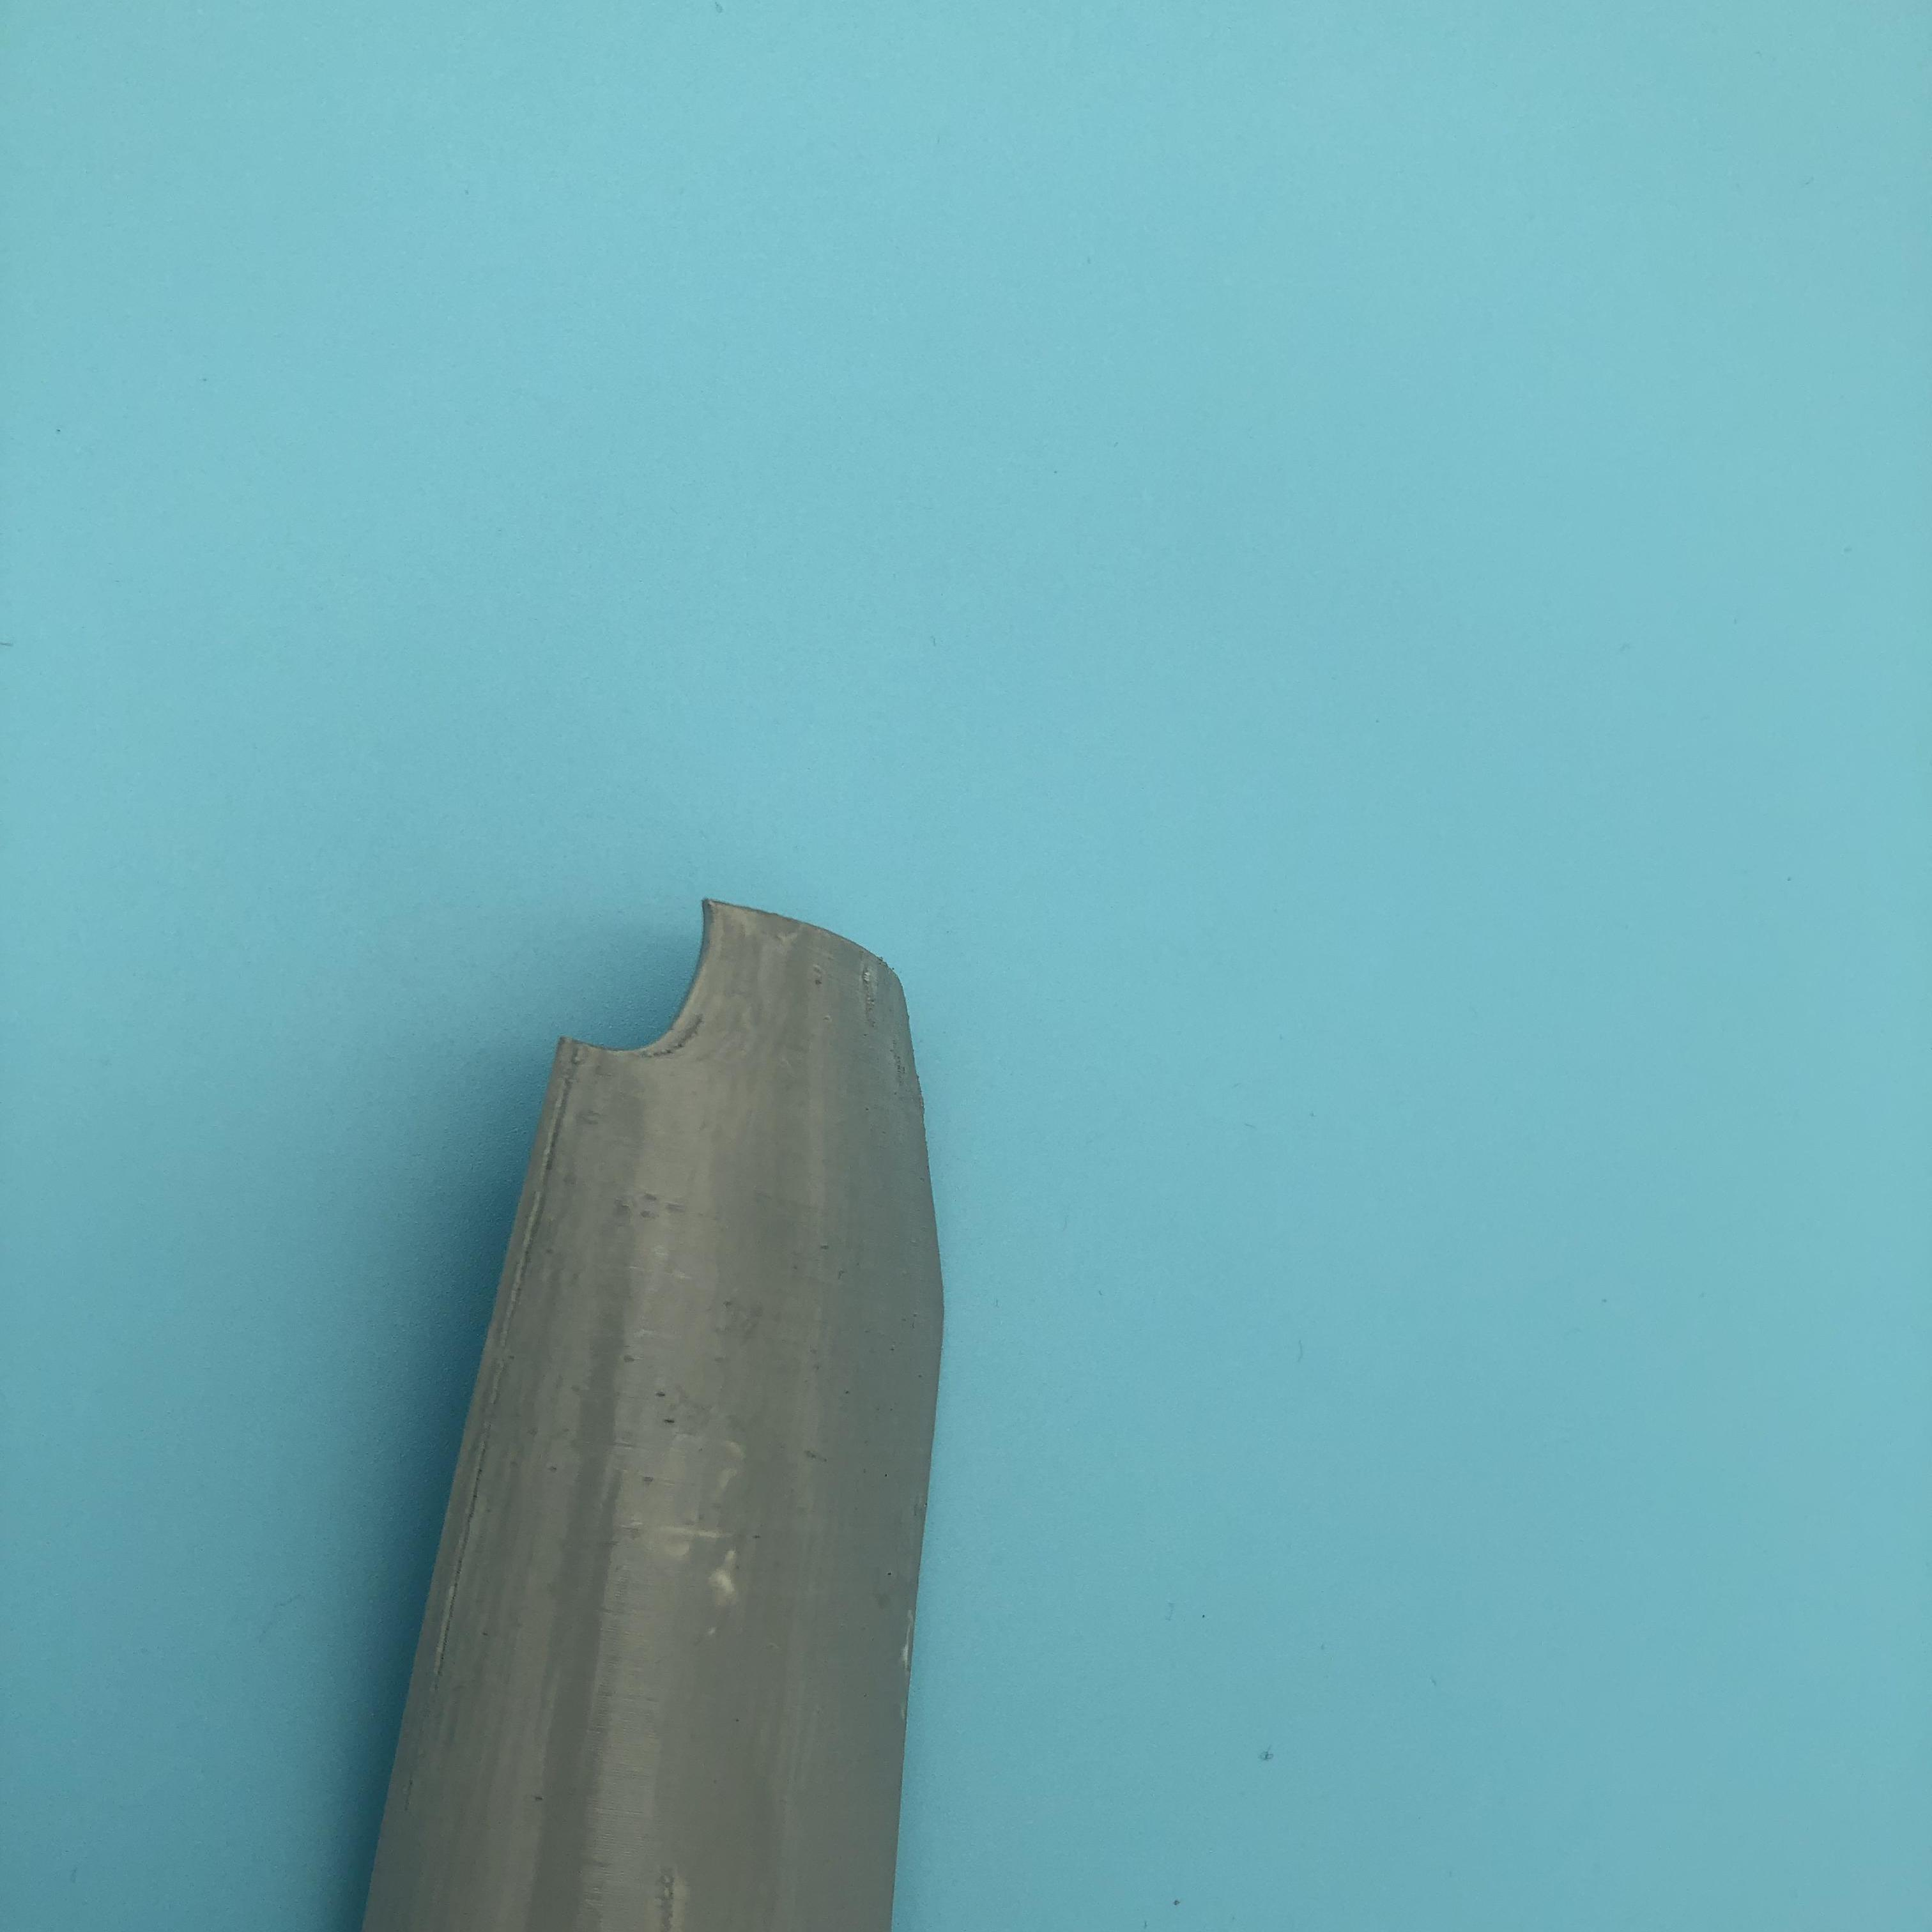fracture: (556, 892, 747, 1072)
